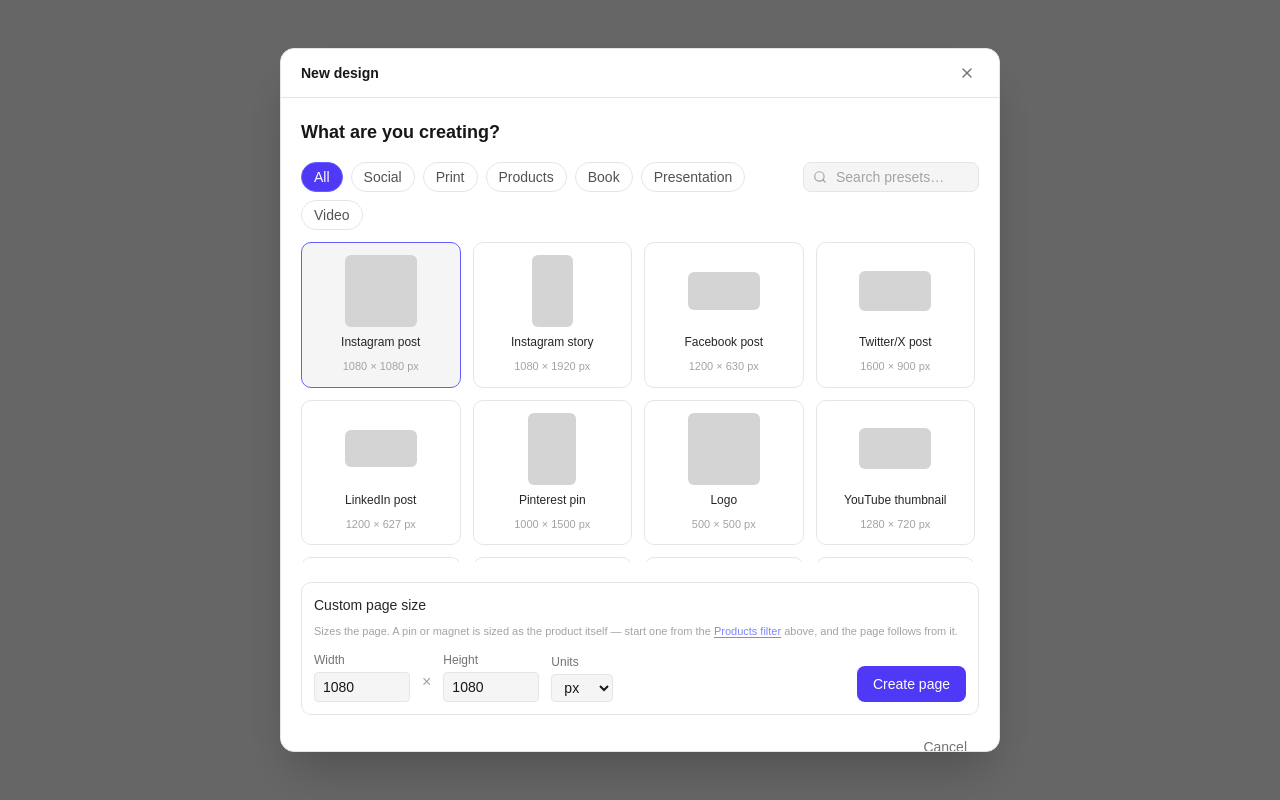
Test: NewDesignModal — print products › offers the products under their own filter
Click the button "Products" at (526, 177), box 486,162 -> 567,192
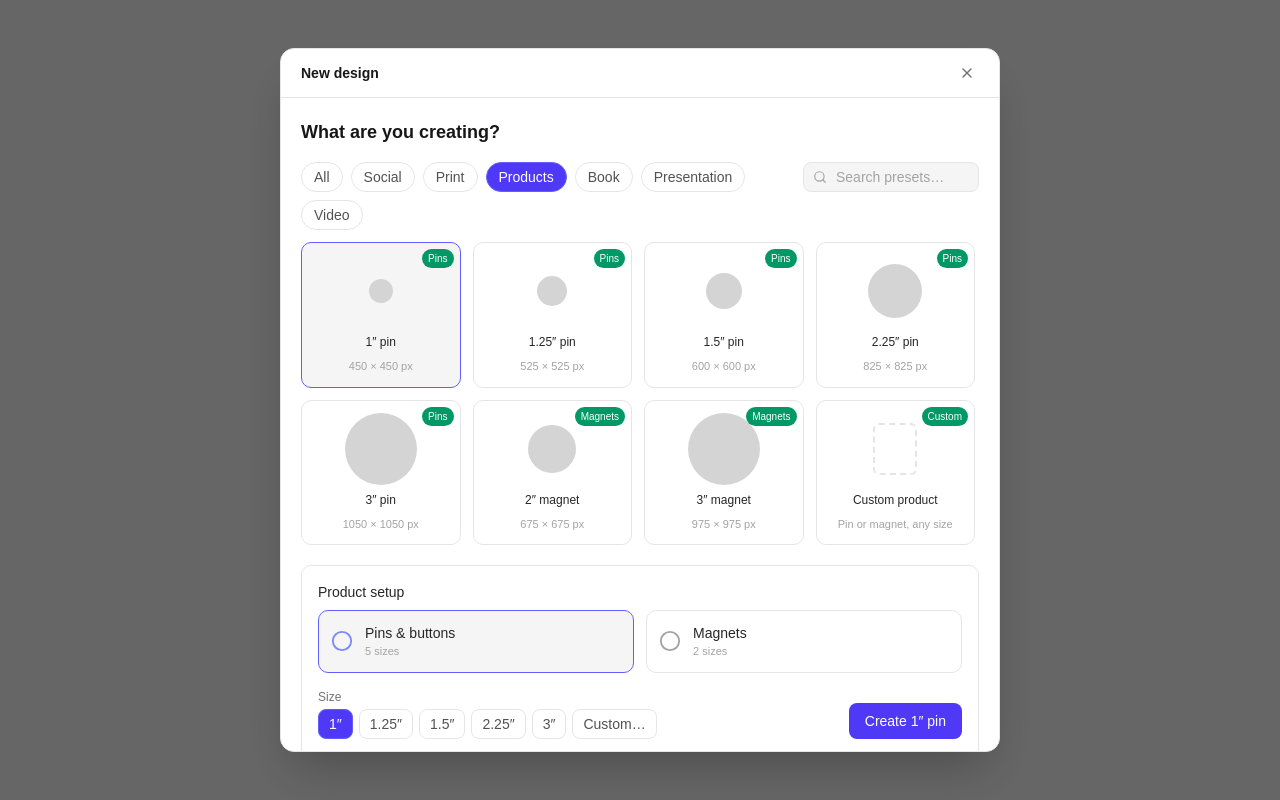
expect the text "2.25″ pin" is shown: met, box 872,335 -> 919,350
expect the text "3″ magnet" is shown: met, box 697,492 -> 751,508
